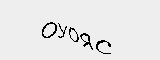О: (40, 17, 57, 42), (69, 25, 78, 45)
С: (95, 36, 114, 56)
У: (57, 22, 70, 41)
Я: (80, 32, 93, 52)
